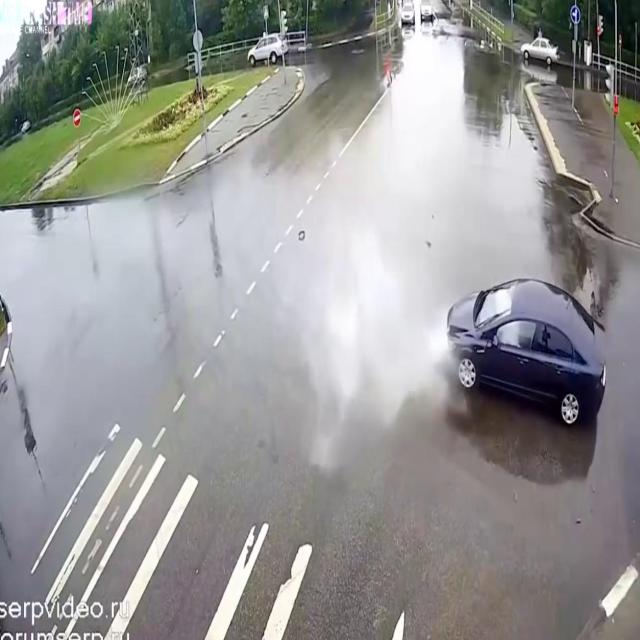accident: (401, 224, 614, 450)
